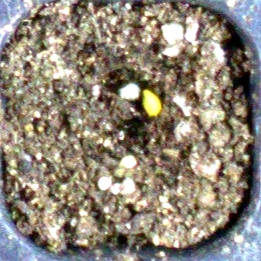pepper seed: (59, 28, 222, 146)
